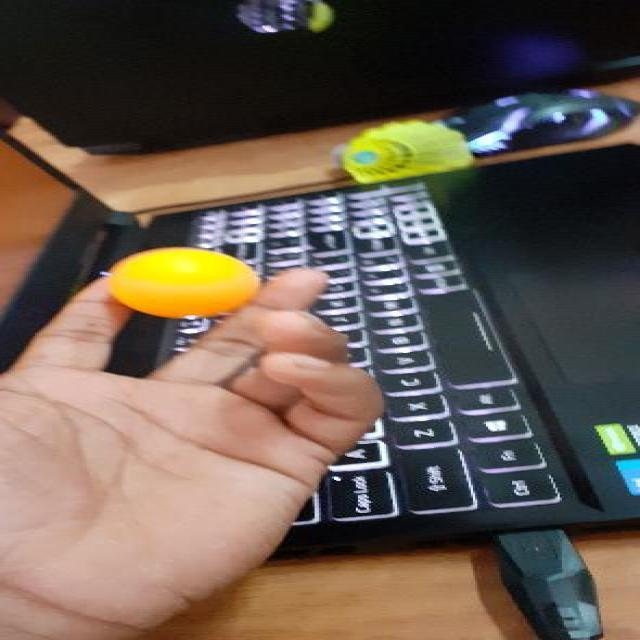oball: (103, 246, 255, 318)
